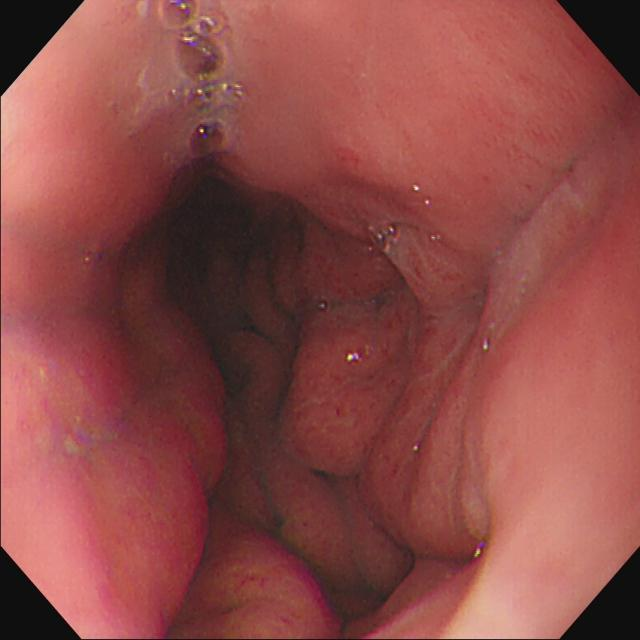A: (271, 309, 419, 469), (360, 395, 503, 550), (201, 527, 343, 640), (271, 219, 405, 308), (323, 136, 366, 177)
E: (168, 185, 258, 259)
T: (159, 2, 246, 161)
